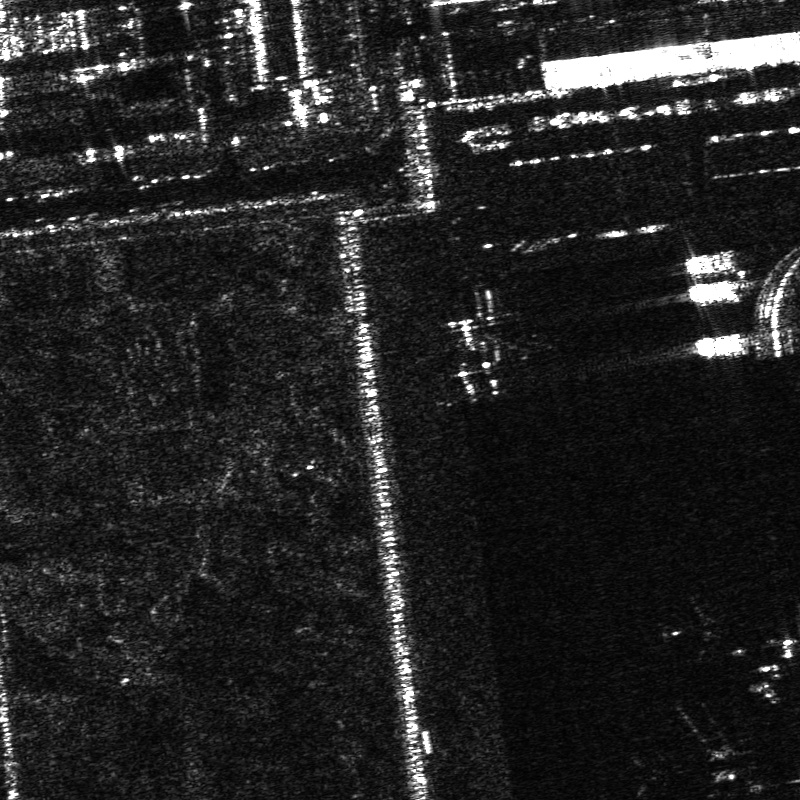Boeing787: (625, 699, 764, 799), (652, 591, 738, 669)
other: (416, 304, 553, 403)
